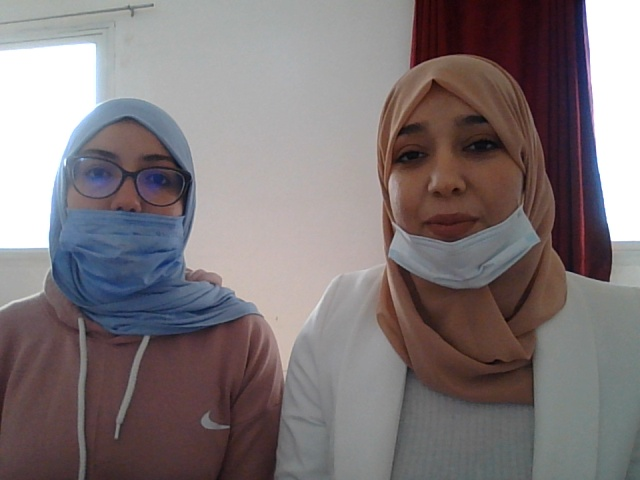mask_weared_incorrect: (362, 67, 557, 299), (46, 103, 198, 292)
